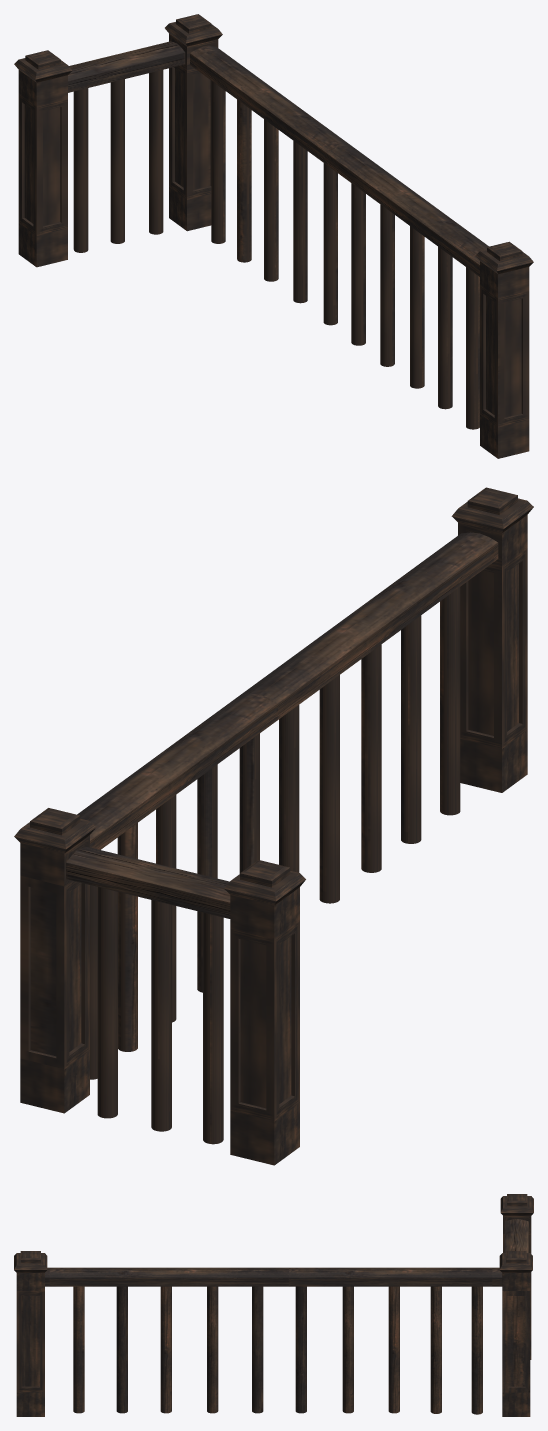
Rendered from SB_Rail_Left.fbx.
3 renders of one model, top to bottom at view 1: azimuth 30°, elevation 25°; view 2: azimuth 150°, elevation 25°; view 3: azimuth 270°, elevation 25°, orthographic. The views are drawn at different scales.
Parts seen in each view (by area): view 1: SB_Railing_2; view 2: SB_Railing_2; view 3: SB_Railing_2.
Part boxes in pixels (box(x1,y1,x2,y2)): SB_Railing_2: box(14, 14, 533, 458); SB_Railing_2: box(14, 487, 533, 1165); SB_Railing_2: box(14, 1194, 533, 1416).
Size of the model in its own units: 247 by 255 by 762.
